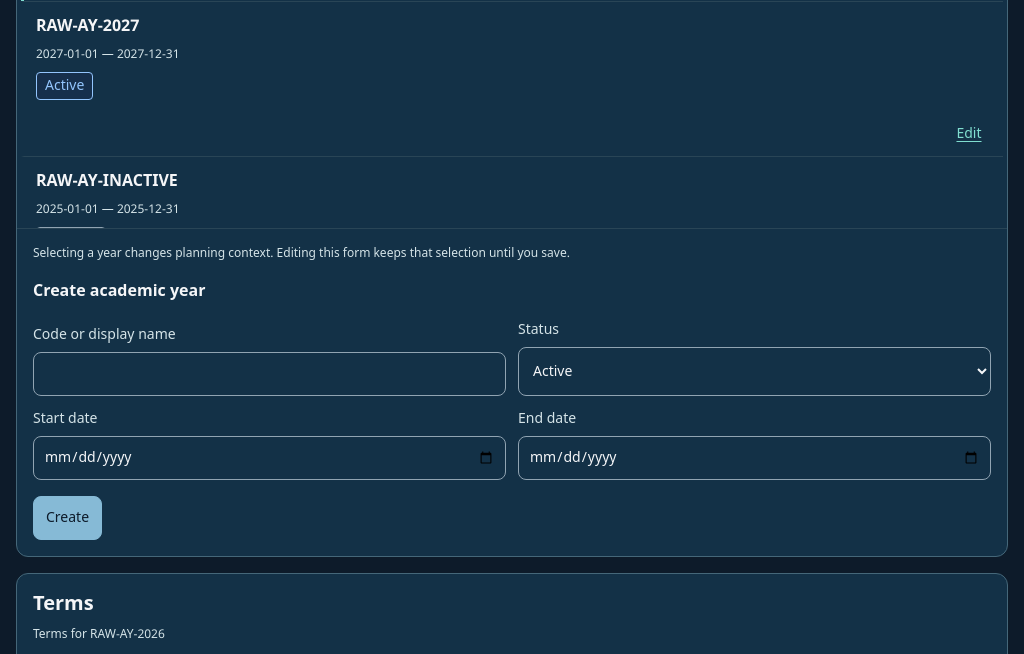
Test: Delivery Planning component en › POST year raw payload, pending duplicate guard, selects returned server ID, reset and four invalidations
The image size is (1024, 654).
(page scrolled)
Type " RAW year " into the field labelled "Code or display name" at (270, 374), box [33, 352, 506, 396]
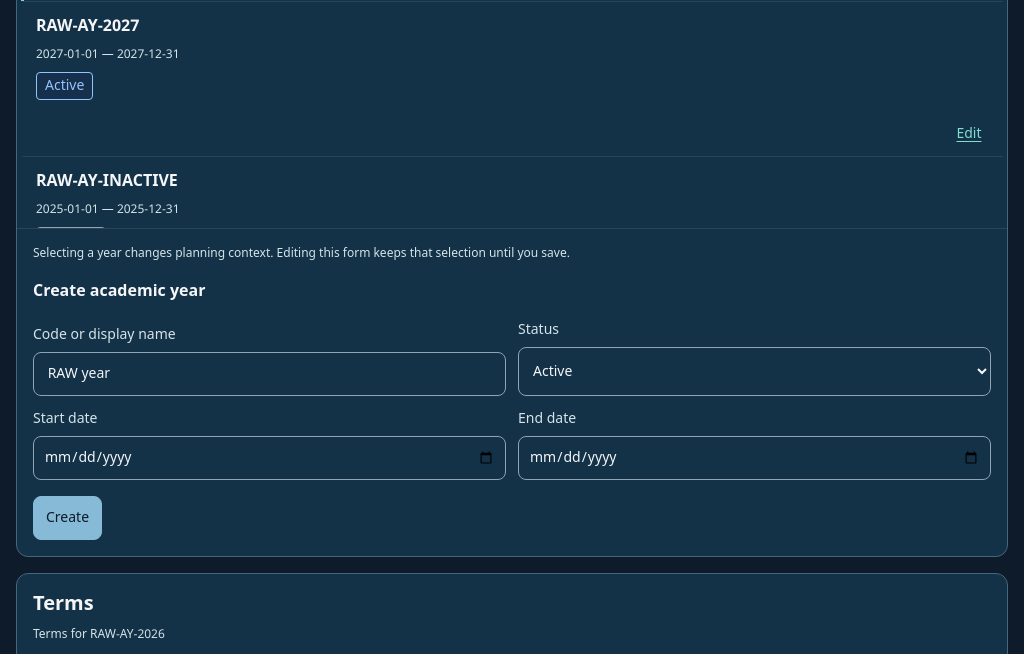
Type "2028-01-01" into the date field labelled "Start date" at (270, 458), box [33, 436, 506, 480]
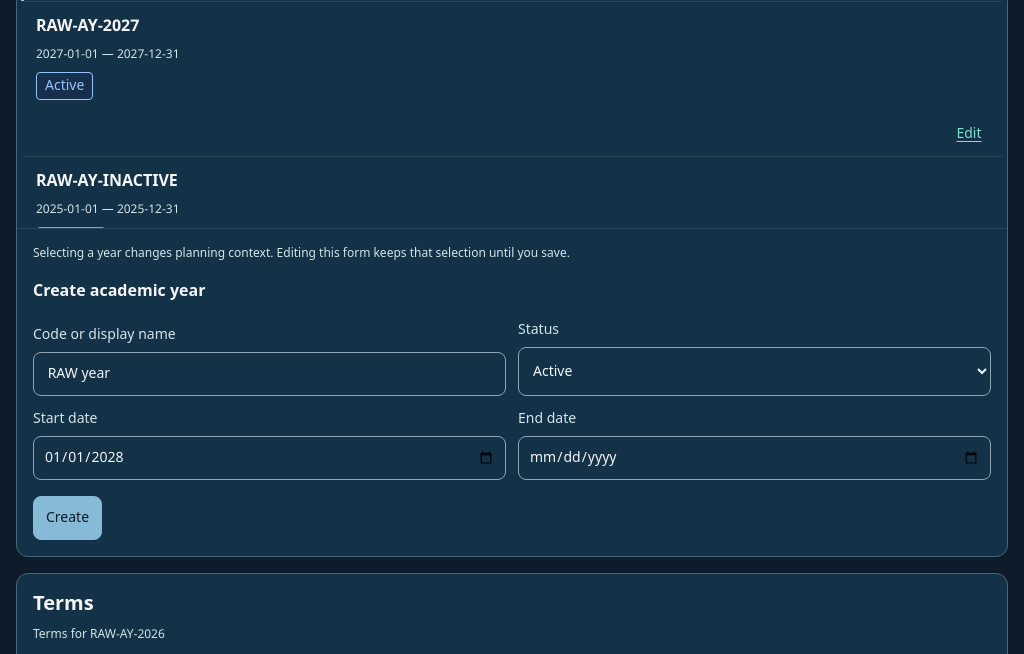
Type "2028-12-31" into the date field labelled "End date" at (754, 458), box [518, 436, 991, 480]
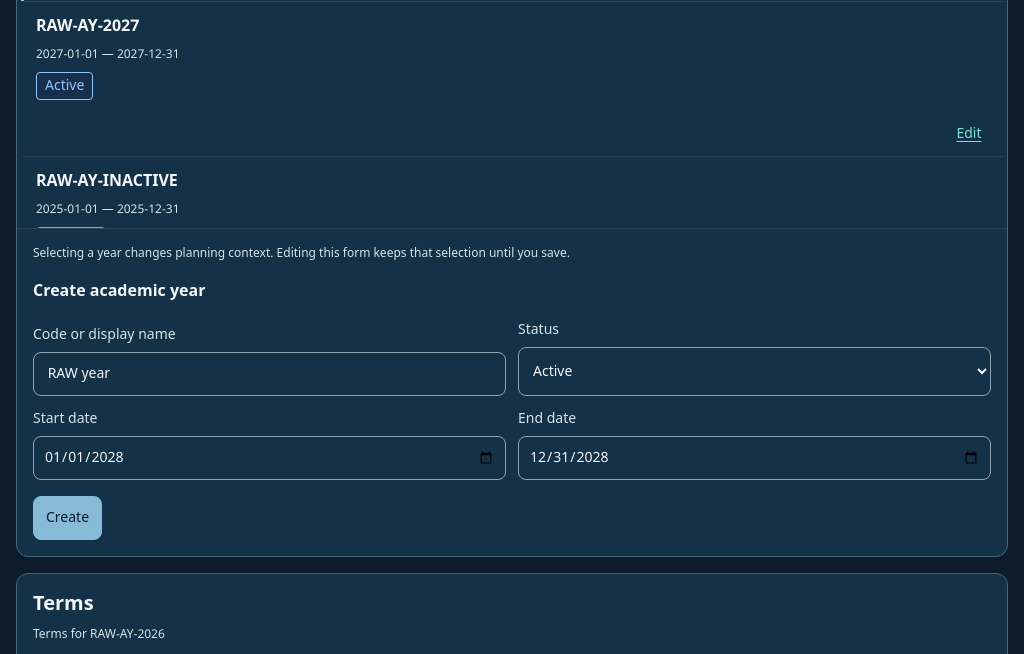
Select "Inactive" in the dropdown labelled "Status" at (754, 372), box [518, 347, 991, 396]
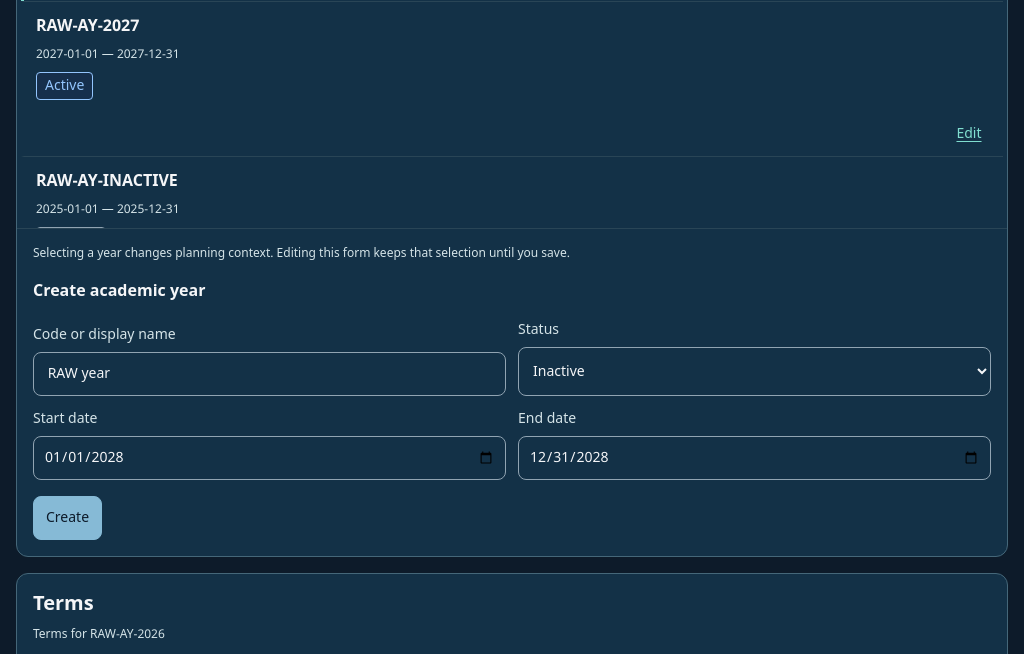
Click the button "Create" at (68, 518), box [33, 496, 102, 540]
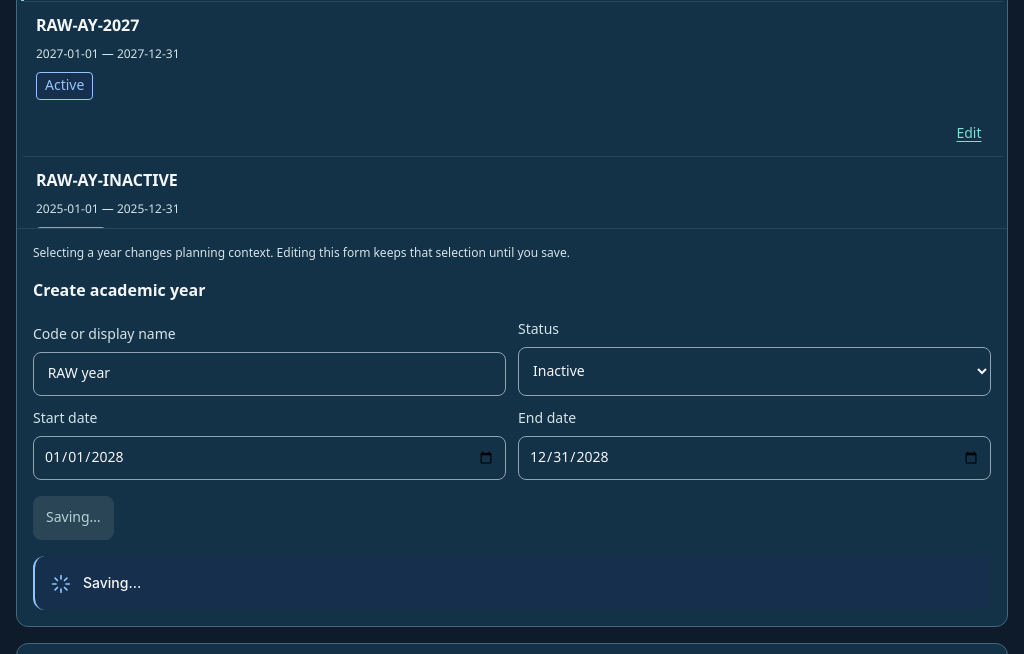
Expected: the button "Saving…" is disabled
Click the button "Saving…" at (73, 518), box [33, 496, 114, 540]
(page scrolled)
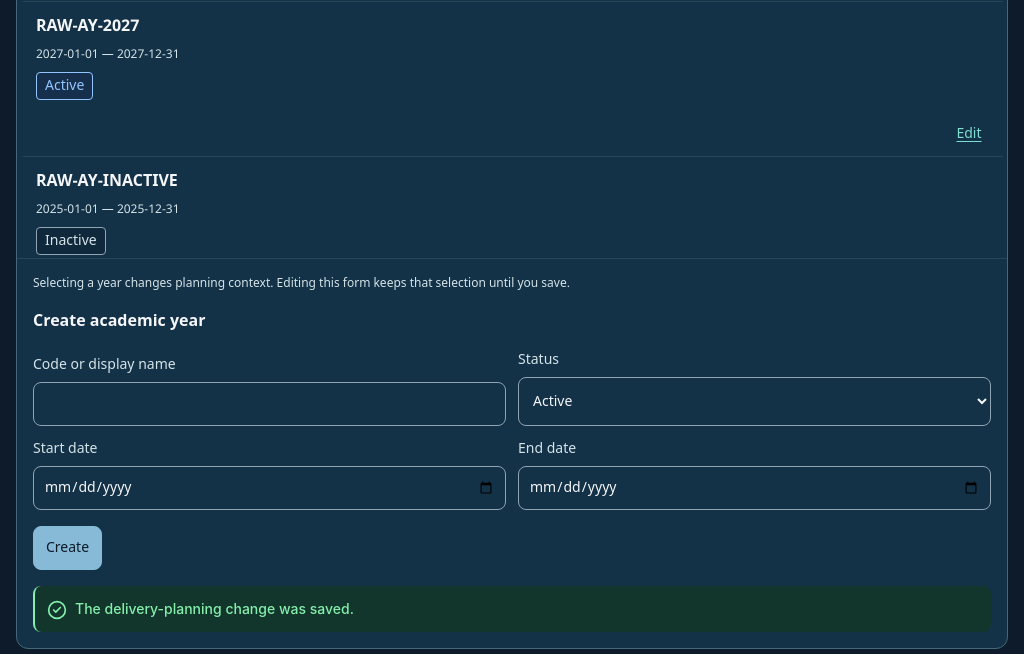
Expected: the field labelled "Code or display name" is empty, [33, 382, 506, 426]
Expected: the message reads "The delivery-planning change was saved.", [75, 600, 354, 617]
